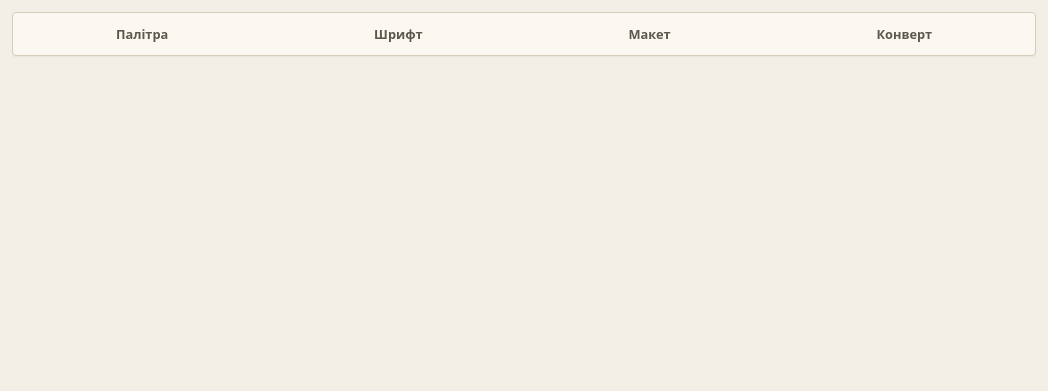
Test: DesignToolbar tabs (adr-019 §7.3) › says where the seal comes from when no host is named
Click the button "Конверт": (904, 34) [774,13,1035,55]
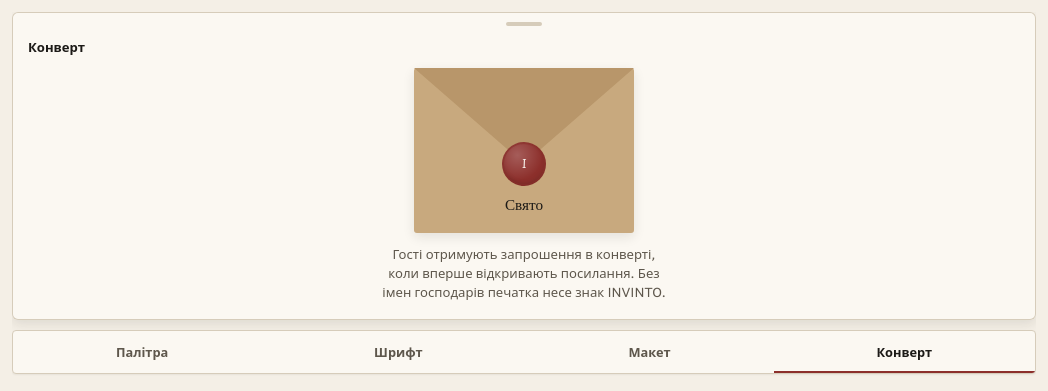
Expected: the text "Гості отримують запрошення в конверті, коли вперше відкривають посилання. Без імен господарів печатка несе знак INVINTO." is shown, [382,246,666,300]
